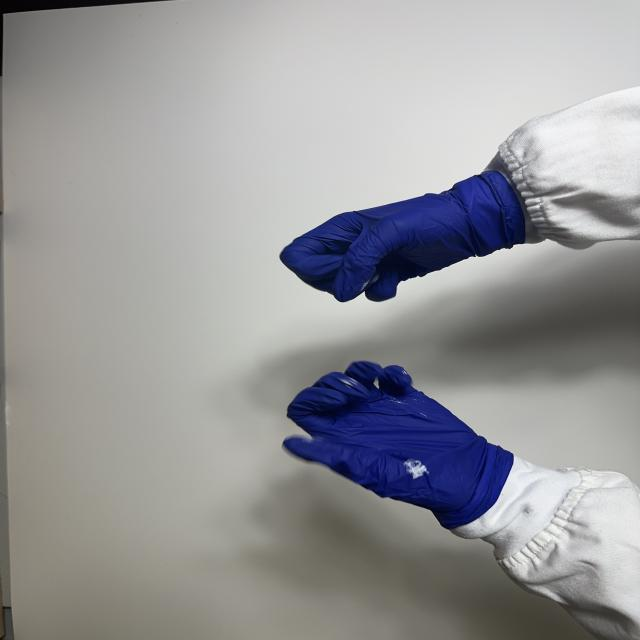gloves_contaminated: (284, 361, 514, 529), (281, 172, 525, 302)
